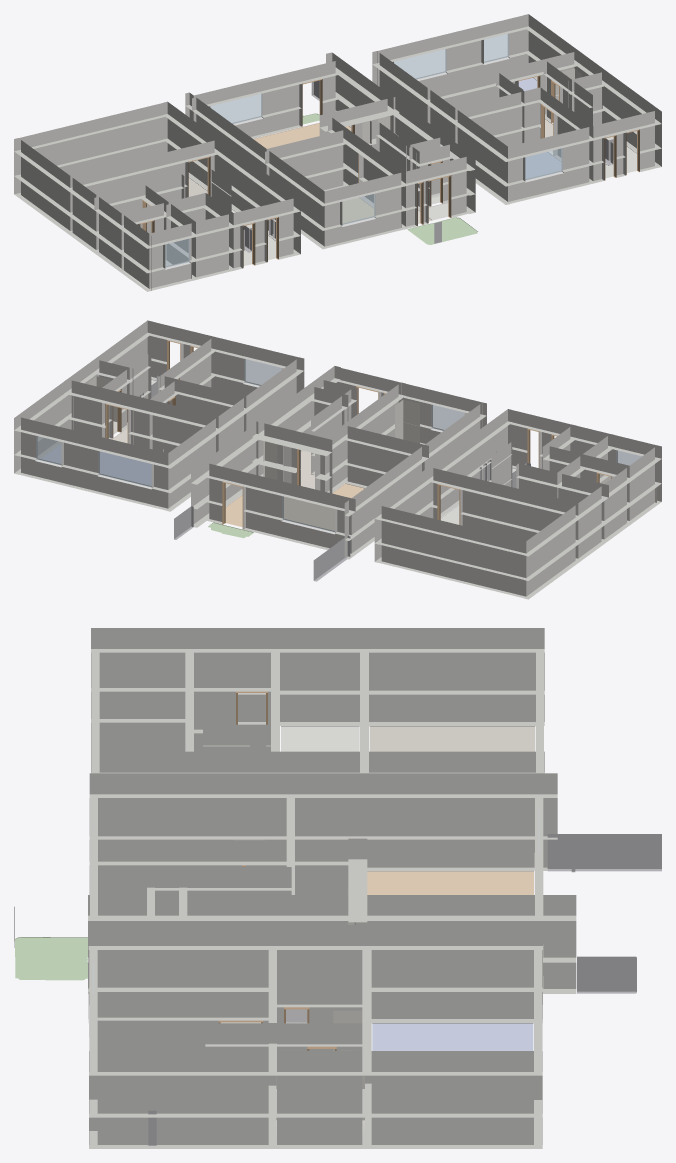
3 views of the same model, one above another, from view 1: azimuth 30°, elevation 25°; view 2: azimuth 150°, elevation 25°; view 3: azimuth 270°, elevation 25° (orthographic). The views are drawn at different scales.
Parts seen in each view (by area): view 1: walls, window_4, window_2, floor_17_Outdoor, window_0, railings, floor_1_Living_Room, window_5, floor_12_Bed_Room, floor_10_Kitchen, window_11, window_3 (+1 smaller); view 2: walls, floor_1_Living_Room, railings, floor_2_Bed_Room, window_4, window_2, furniture_5_closet, window_0, window_3, window_5, furniture_3_closet, floor_8_Entry; view 3: walls, railings, floor_2_Bed_Room, floor_0_Storage, floor_1_Living_Room, floor_17_Outdoor, floor_7_Undefined.
Part boxes in pixels (x1,y1,x2,y2): walls: (14, 14, 661, 291); window_4: (394, 49, 446, 79); window_2: (210, 93, 262, 123); floor_17_Outdoor: (407, 217, 477, 244); window_0: (525, 148, 562, 180); railings: (243, 80, 613, 252); floor_1_Living_Room: (253, 123, 350, 148); window_5: (342, 194, 375, 224); floor_12_Bed_Room: (525, 152, 560, 178); floor_10_Kitchen: (342, 198, 373, 223); window_11: (165, 238, 189, 267); window_3: (484, 33, 508, 62); walls: (14, 320, 661, 599); floor_1_Living_Room: (225, 483, 364, 530); railings: (139, 375, 530, 581); floor_2_Bed_Room: (41, 444, 151, 485); window_4: (98, 451, 151, 487); window_2: (282, 496, 334, 532); furniture_5_closet: (395, 399, 419, 443); window_0: (244, 359, 281, 385); window_3: (36, 436, 61, 465); window_5: (431, 405, 464, 430); furniture_3_closet: (263, 441, 277, 479); floor_8_Entry: (301, 450, 314, 489); walls: (88, 628, 576, 1148); railings: (14, 834, 661, 1145); floor_2_Bed_Room: (372, 1023, 533, 1050); floor_0_Storage: (369, 726, 535, 751); floor_1_Living_Room: (367, 871, 533, 894); floor_17_Outdoor: (15, 937, 87, 980); floor_7_Undefined: (281, 726, 359, 751).
Size of the model in its own units: 26.28 by 2.72 by 16.86.
